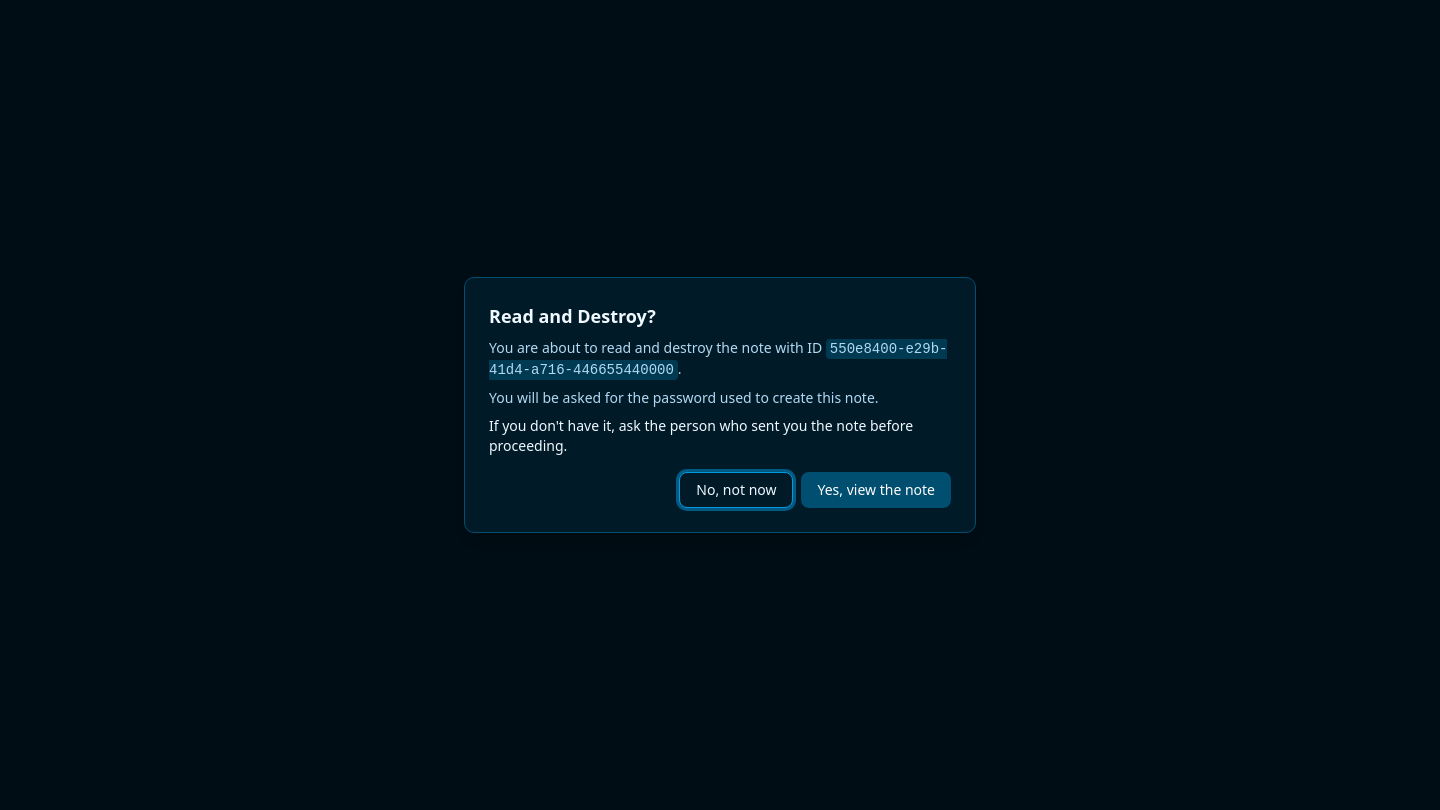
NotePage › shows remaining attempts after wrong password
This screenshot has width=1440, height=810.
Expected: the dialog is shown, left=464, top=277, right=976, bottom=533
Click the button "Yes, view the note" at (876, 490), box left=802, top=472, right=951, bottom=508
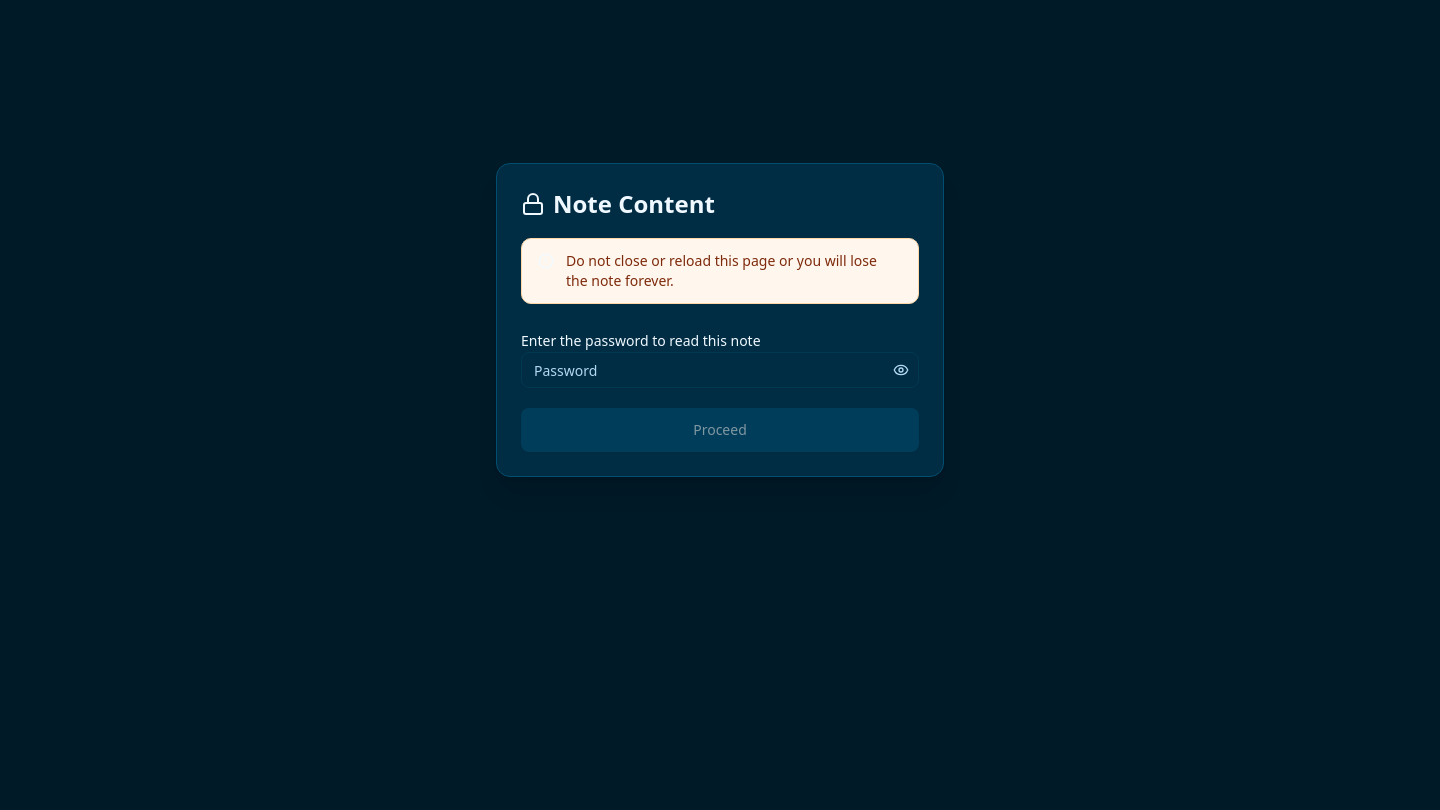
Expected: the password field labelled "Enter the password to read this note" is shown
Type "wrong" into the password field labelled "Enter the password to read this note" at (720, 370), box left=521, top=352, right=919, bottom=388
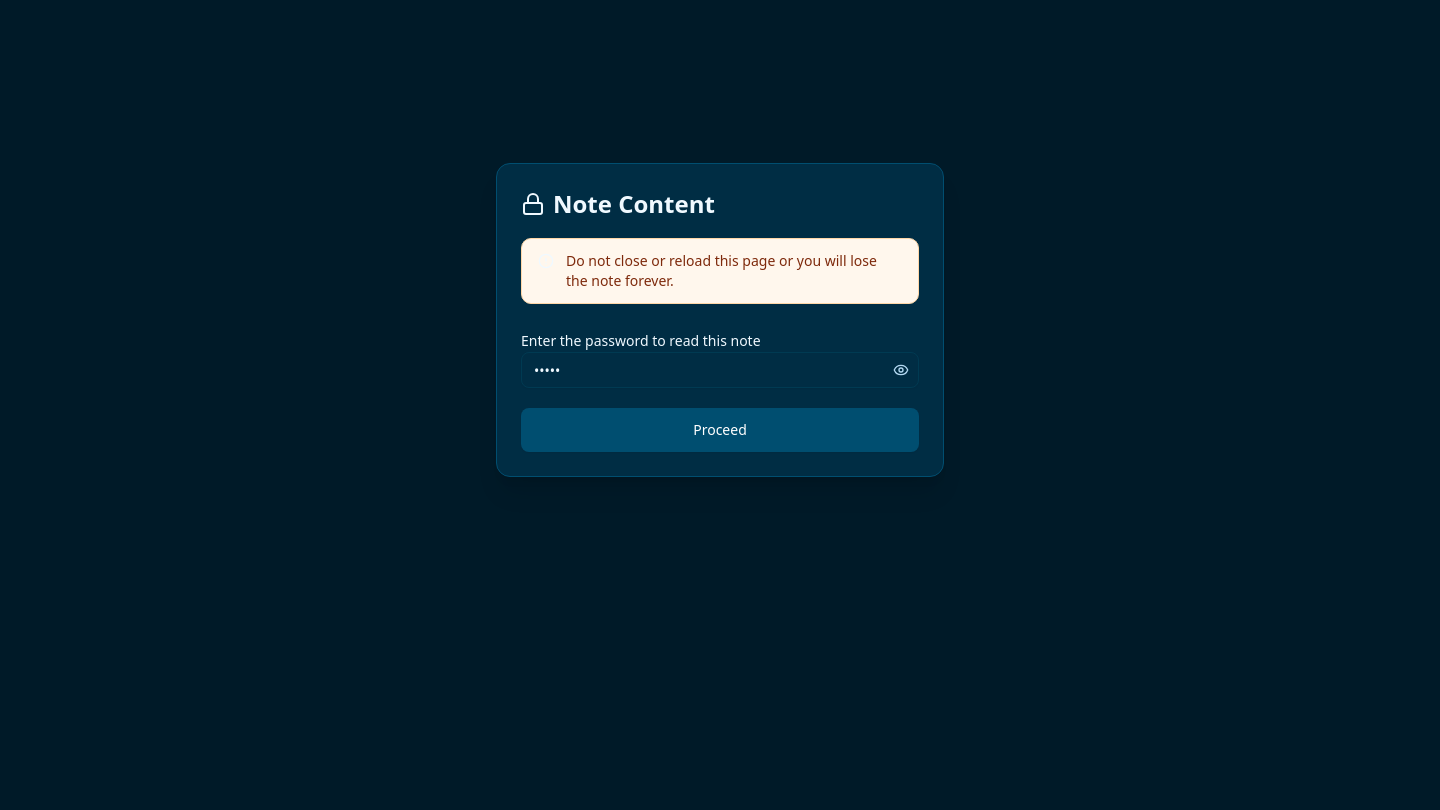
Submit the form "Enter the password to read this note Proceed", box left=521, top=328, right=919, bottom=452
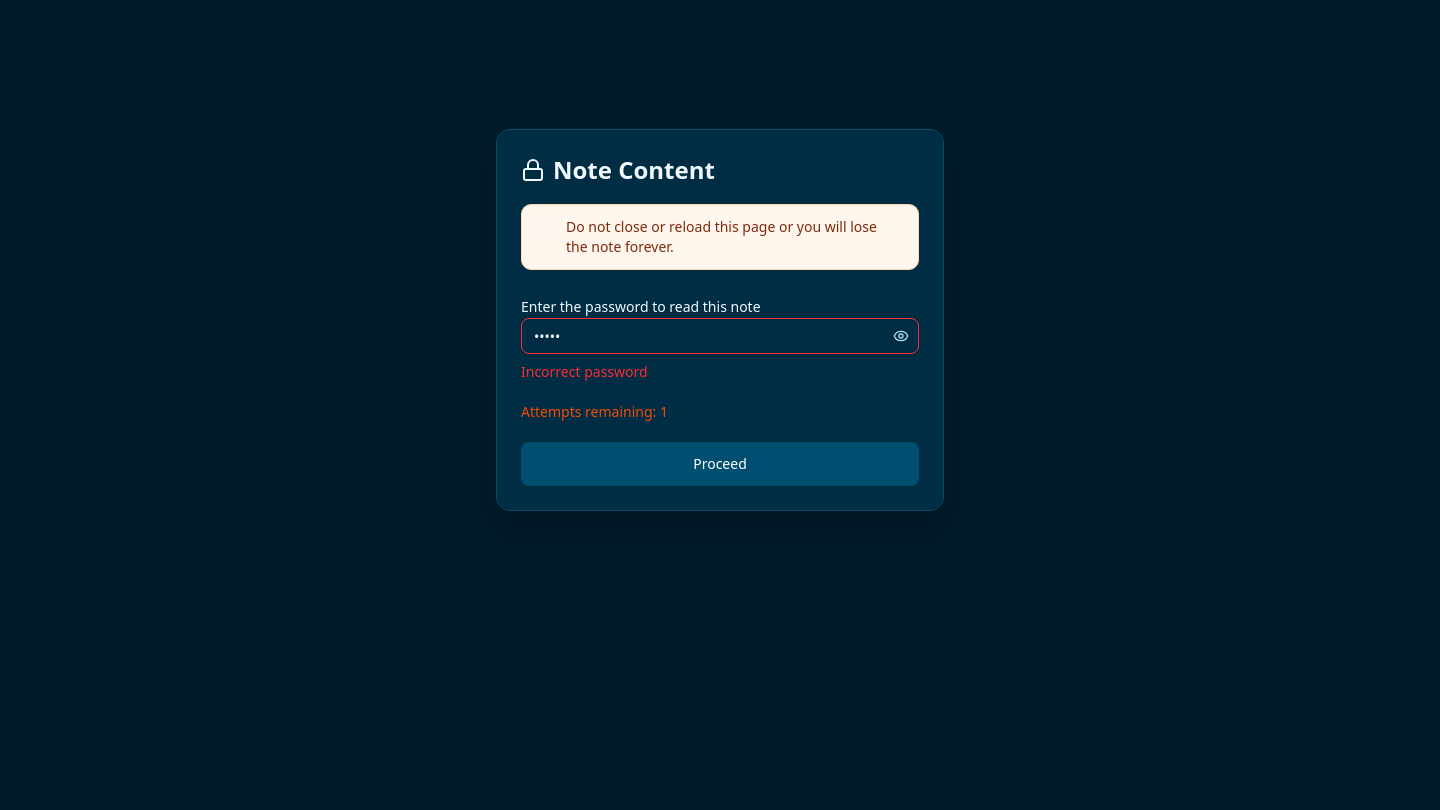
Expected: the text "Incorrect password" is shown, left=521, top=362, right=648, bottom=381
Expected: the text "Attempts remaining: 1" is shown, left=521, top=402, right=668, bottom=421
